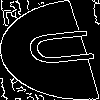U: (25, 25, 100, 69)
